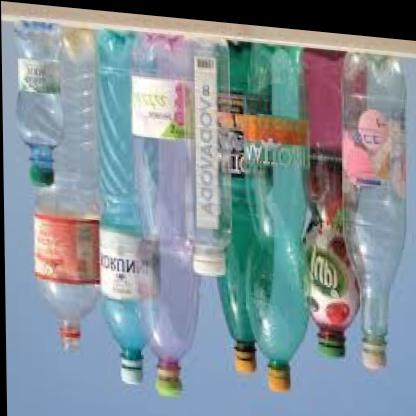Plastic: (2, 19, 414, 404)
